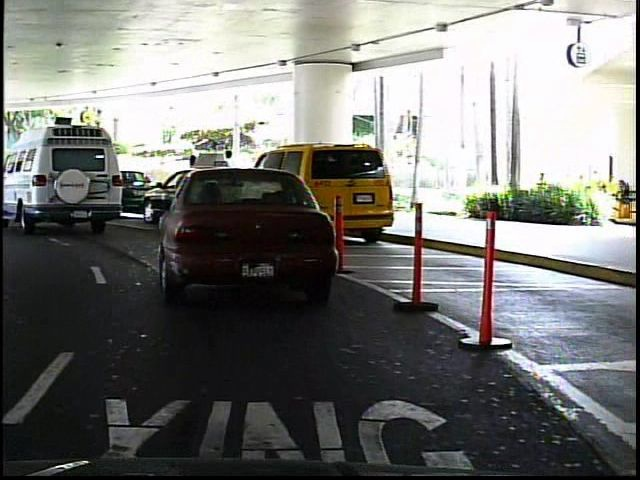person: (219, 146, 244, 209), (56, 155, 78, 198), (4, 157, 21, 198)
